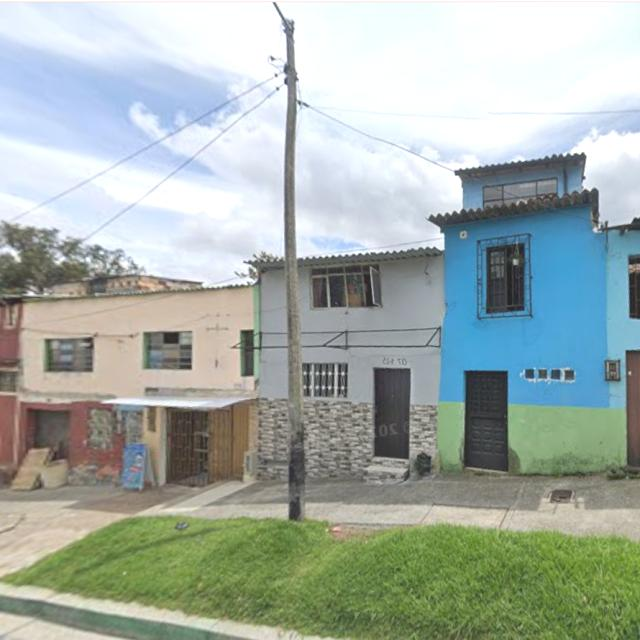fachada: (429, 154, 626, 473), (1, 286, 255, 484), (298, 248, 443, 479), (605, 219, 639, 468), (0, 297, 21, 465), (48, 274, 201, 296)
poste: (273, 3, 303, 521)
